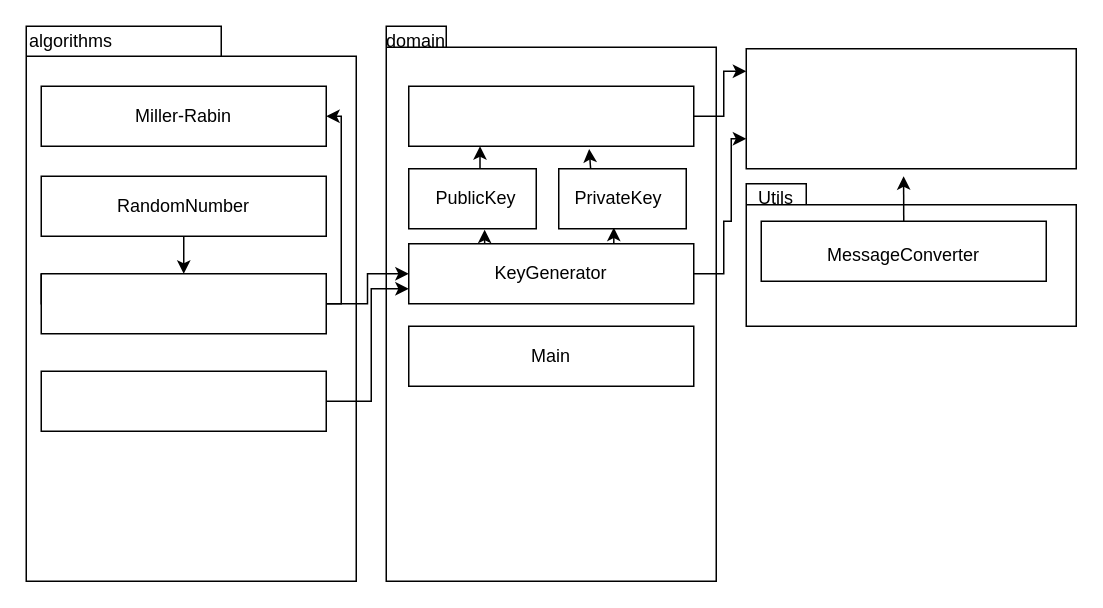
Some shapes in this 1103 by 608 pixel diagram are drawn without their labels. Each missing label, with the centre of its shape:
Encryption: the point at 550,115
Extended euclidean algorithm: the point at 183,400
ProbablePrime: the point at 183,303
UI: the point at 910,108
